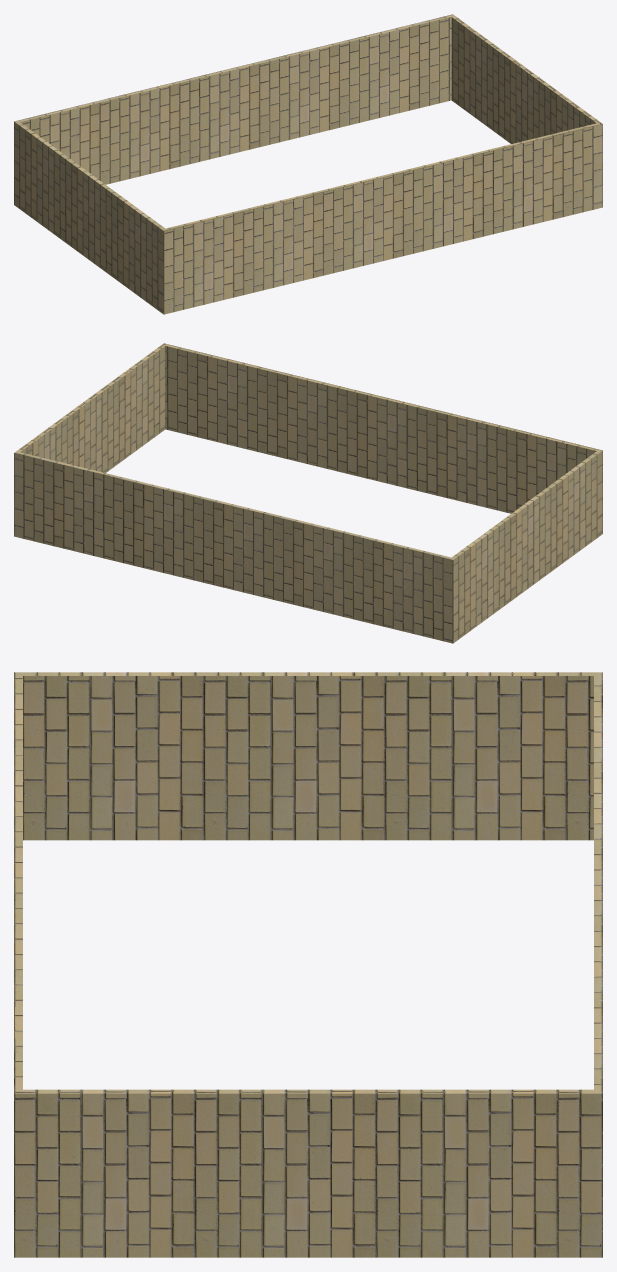
File: sim_env_part.DAE
The picture shows the model from 3 angles, top to bottom: view 1: azimuth 30°, elevation 25°; view 2: azimuth 150°, elevation 25°; view 3: azimuth 270°, elevation 25°; orthographic projection. The views are drawn at different scales.
Parts seen in each view (by area): view 1: stitch_result_stitchFBXASC032all; view 2: stitch_result_stitchFBXASC032all; view 3: stitch_result_stitchFBXASC032all.
Part boxes in pixels (left/top/right/bottom): stitch_result_stitchFBXASC032all: left=14, top=14, right=602, bottom=314; stitch_result_stitchFBXASC032all: left=14, top=343, right=602, bottom=643; stitch_result_stitchFBXASC032all: left=14, top=672, right=602, bottom=1257.
Size of the model in its own units: 2.17 by 1.28 by 0.3937.
